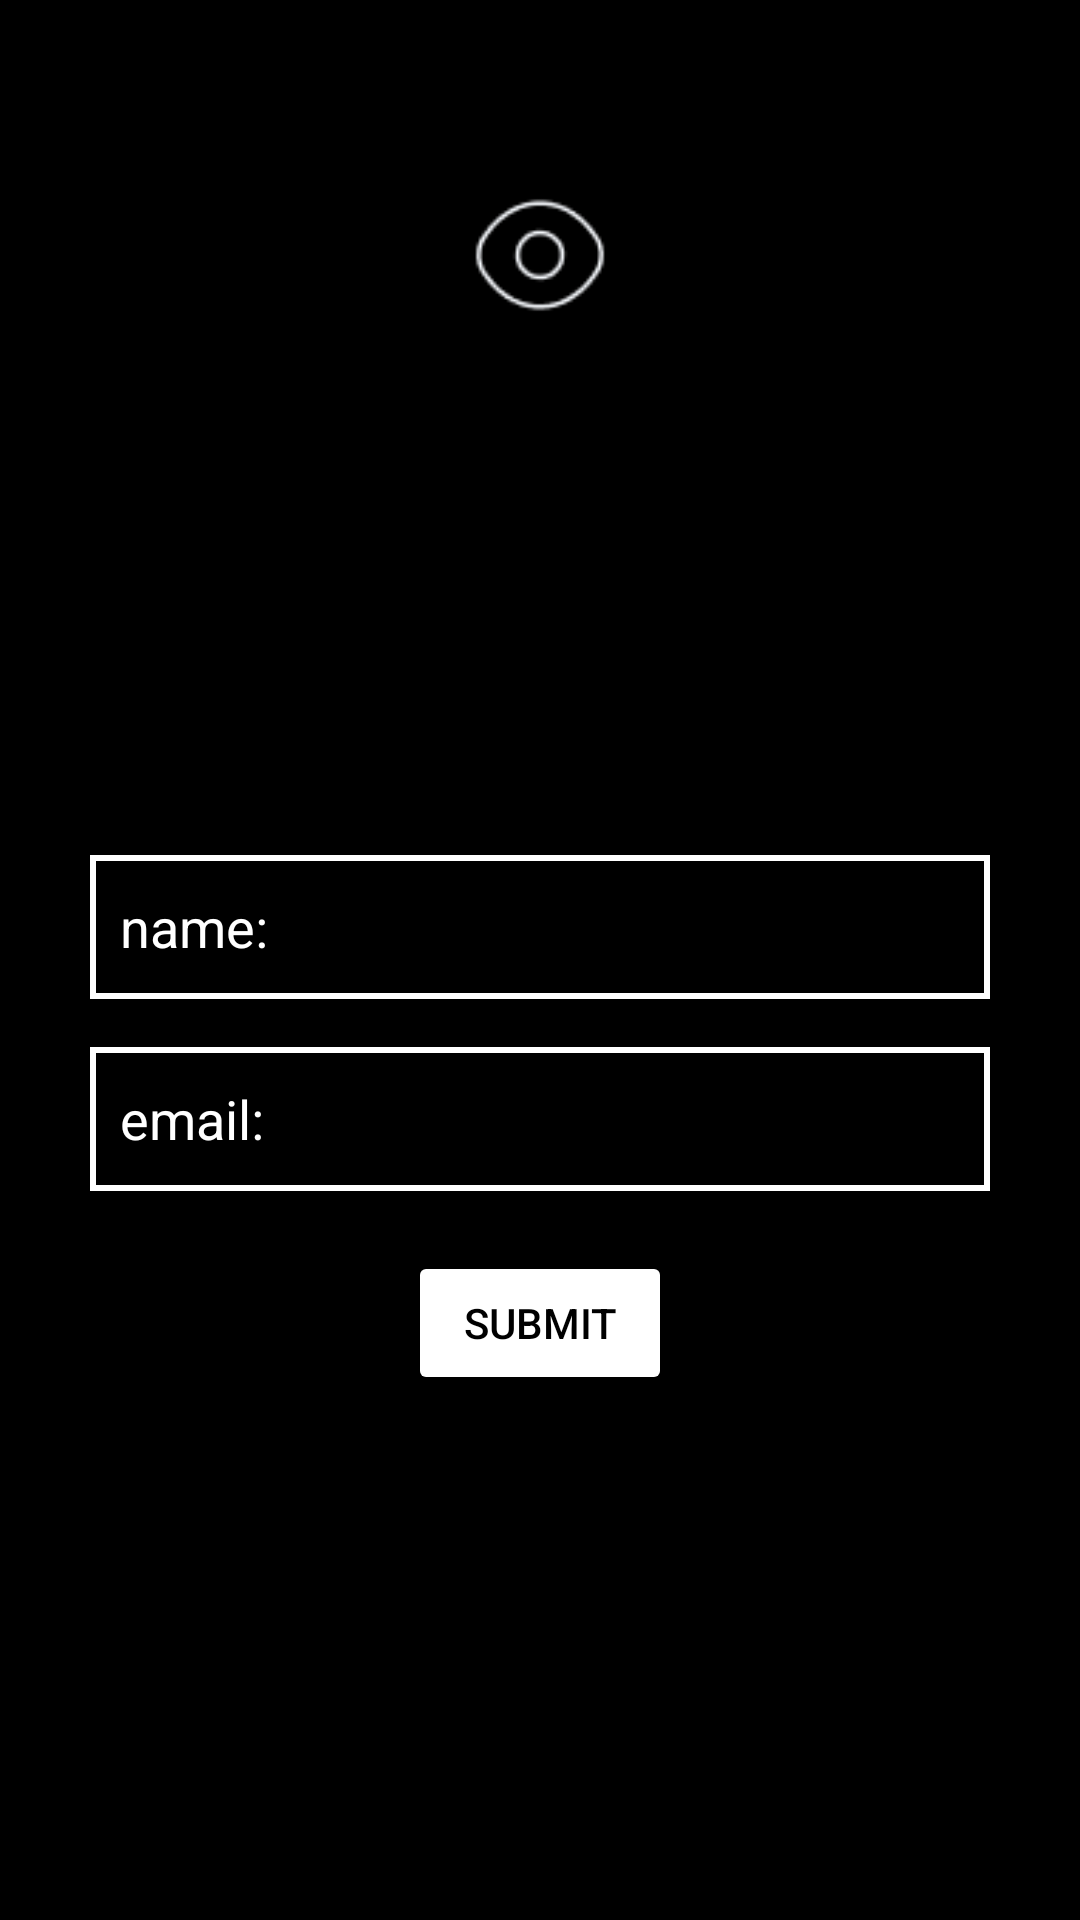

Icons on this 1080x1920 Android screen, each with its box as (x1,y1,x2,y2):
eye: (475,199,605,311)
